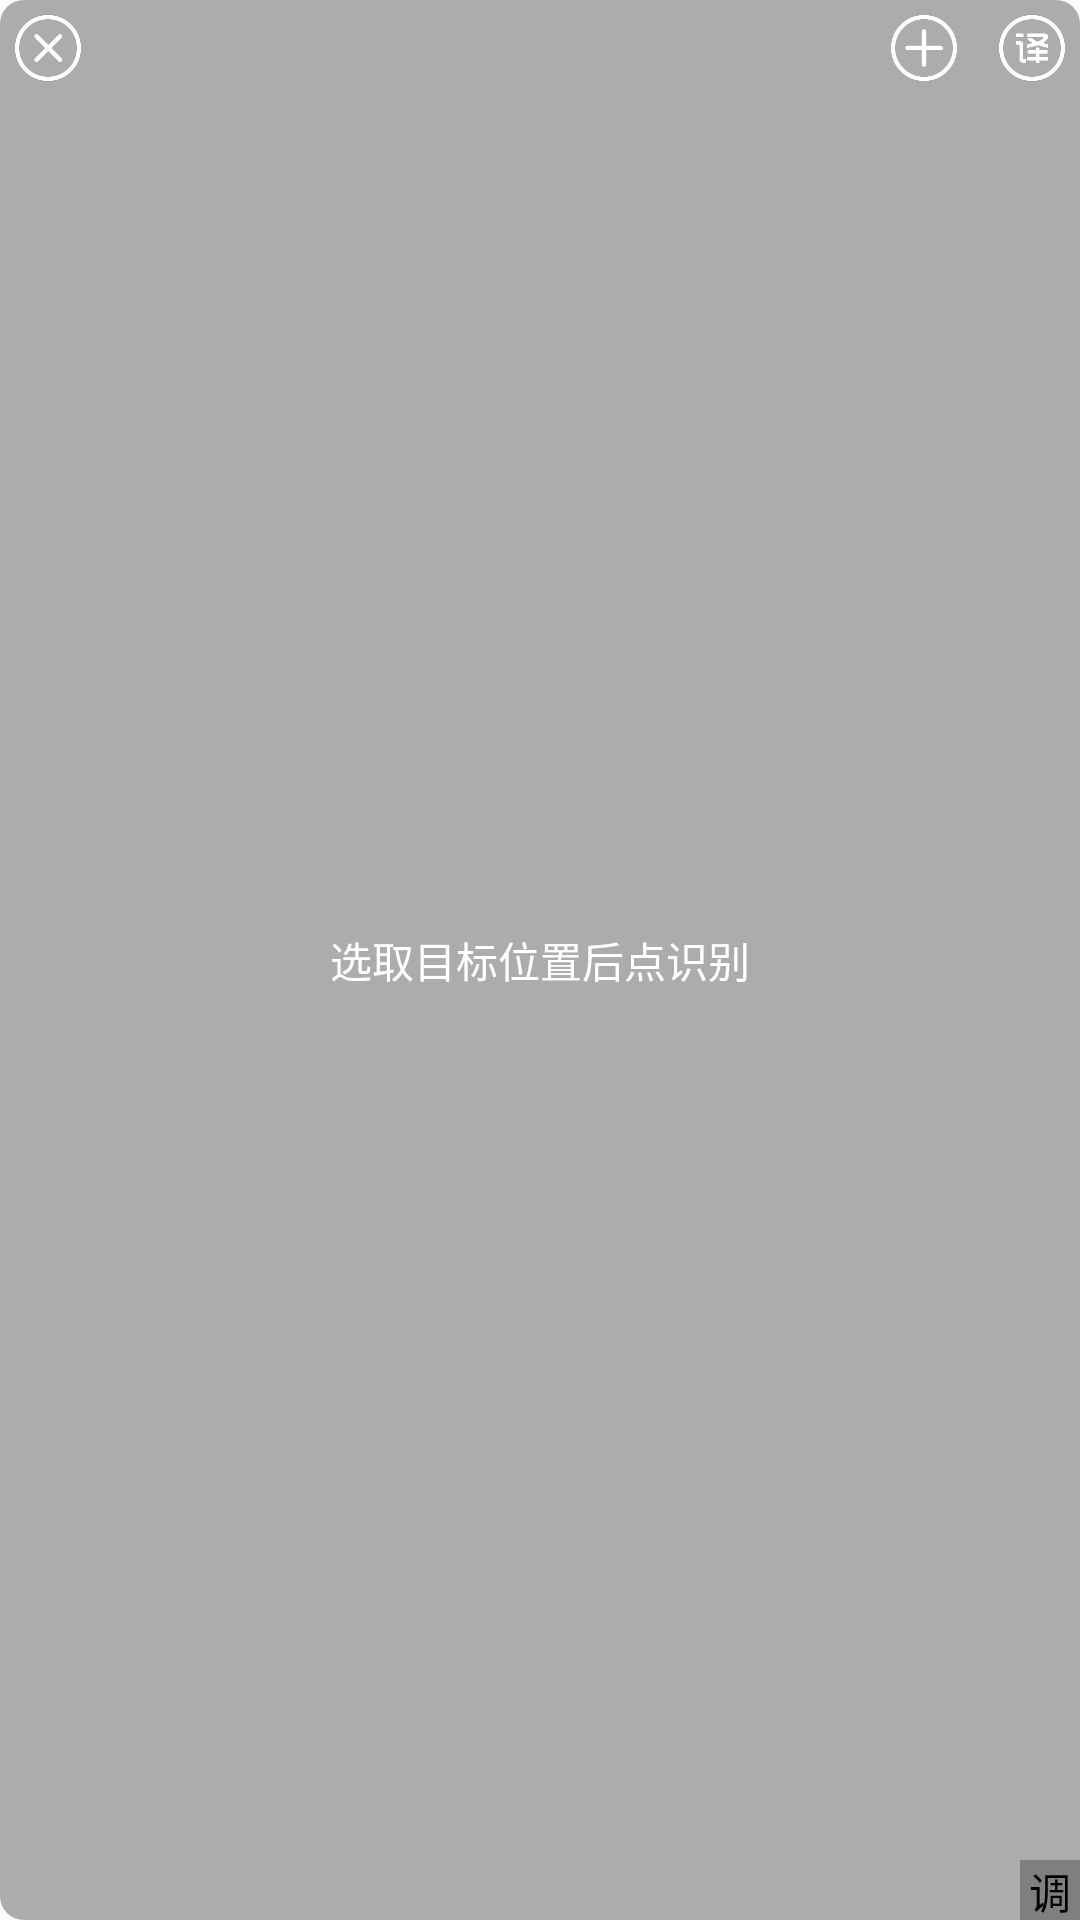

Icons on this 1080*1920 Android screen, each with the point to tap as (x,y):
关闭: (40,40)
增加悬浮窗: (924,48)
